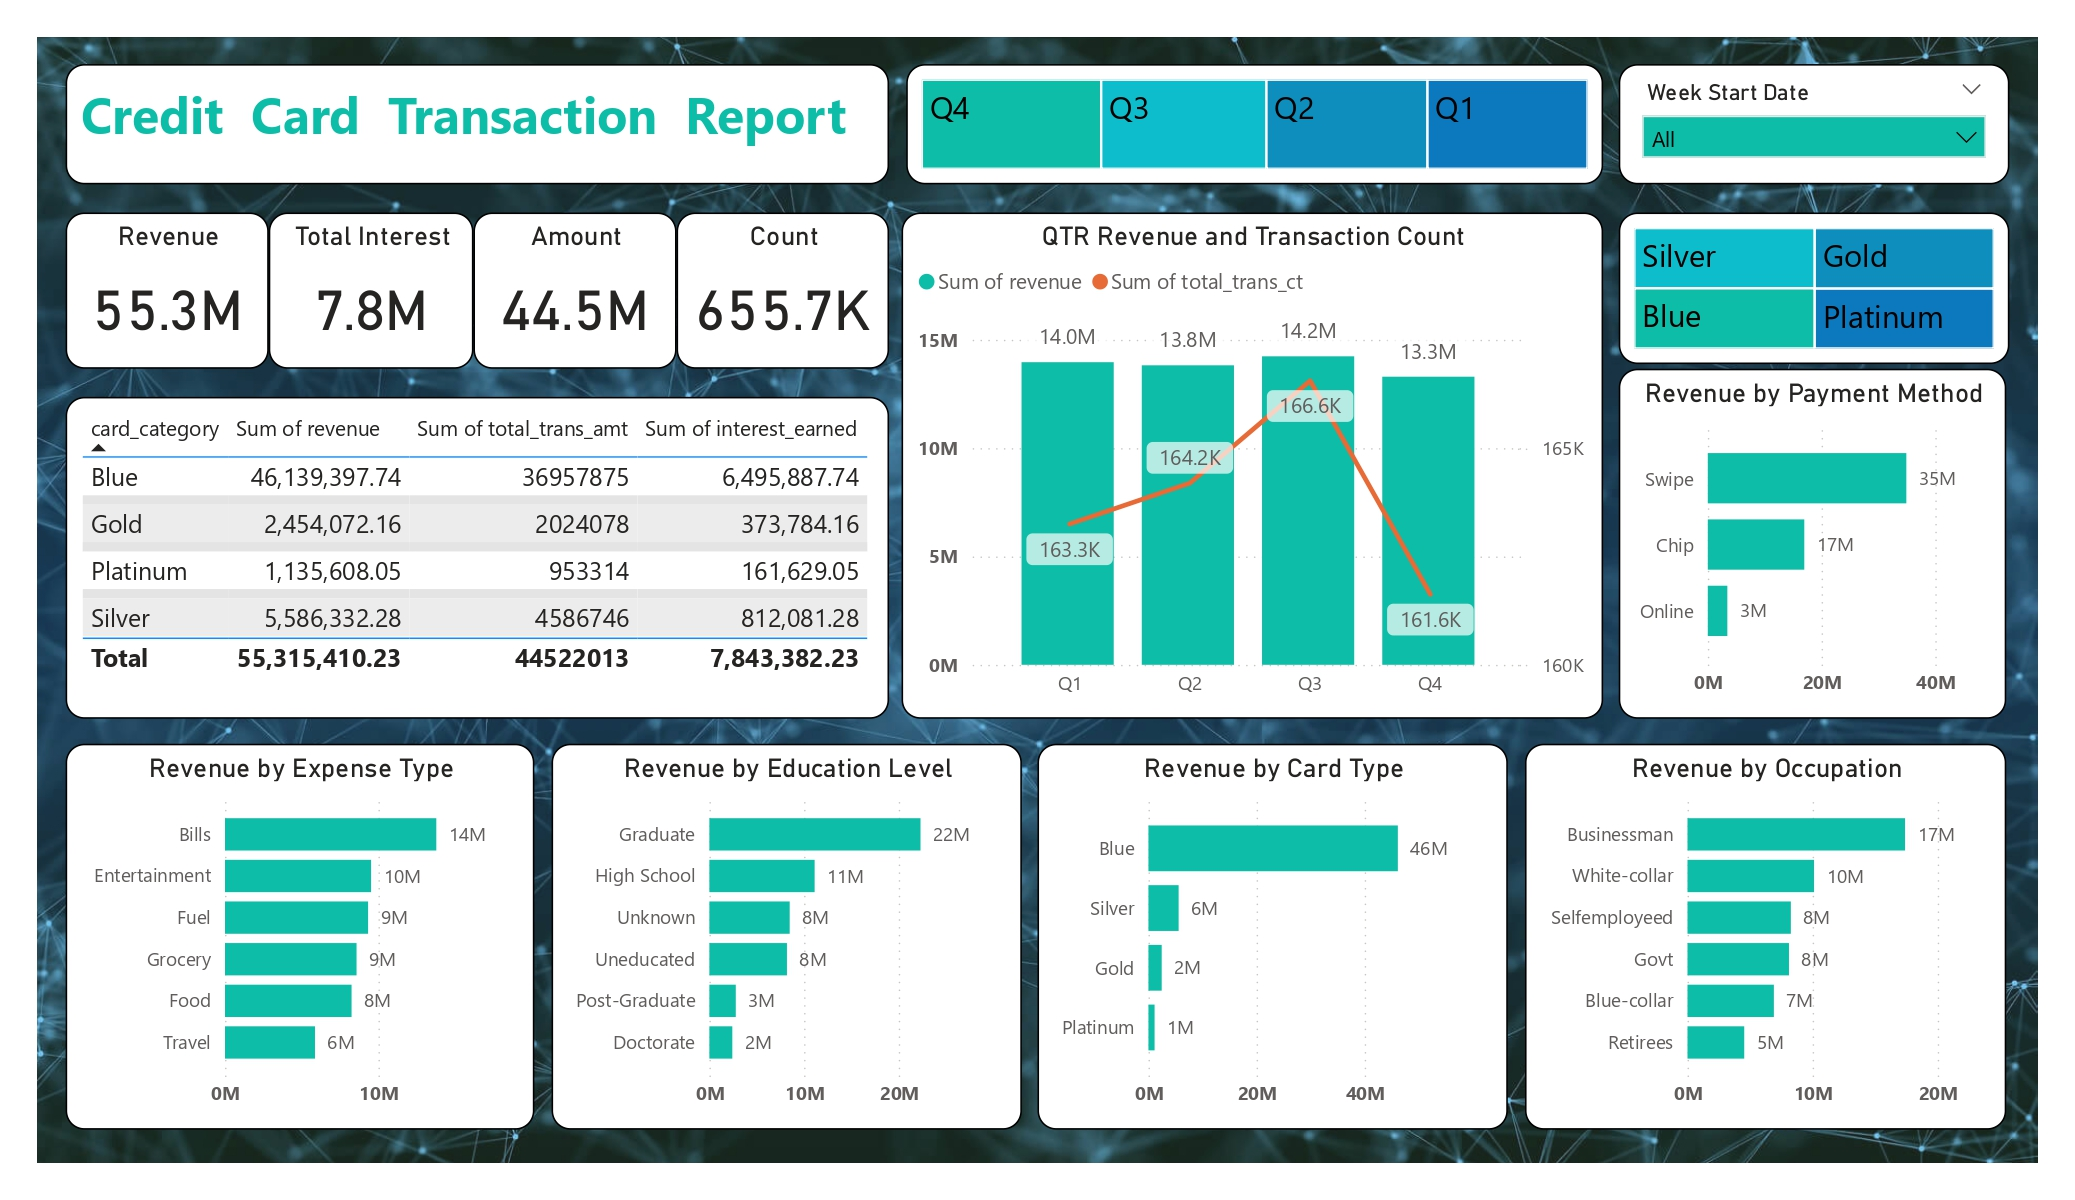

The dashboard page shown, as its layout file describes it:
{"tool":"powerbi","page":{"name":"cc_report","canvas":[1280,720],"ordinal":0},"visuals":[{"type":"textbox","box":[17.8,16.9,527.2,77.2],"z":0},{"type":"lineClusteredColumnComboChart","title":"QTR Revenue and Transaction Count","fields":{"Category":["public credit_card_transactions.qtr"],"Y":["Sum(public credit_card_transactions.revenue)"],"Y2":["Sum(public credit_card_transactions.total_trans_ct)"]},"box":[553.5,112.2,448.8,323.3],"z":1000},{"type":"barChart","title":"Revenue by Expense Type","fields":{"Y":["Sum(public credit_card_transactions.revenue)"],"Category":["public credit_card_transactions.exp_type"]},"box":[17.8,452.4,300,246.1],"z":2000},{"type":"barChart","title":"Revenue by Education Level","fields":{"Y":["Sum(public credit_card_transactions.revenue)"],"Category":["public customer_details.education_level"]},"box":[329.4,452.4,300.4,246.1],"z":3000},{"type":"barChart","title":"Revenue by Occupation","fields":{"Y":["Sum(public credit_card_transactions.revenue)"],"Category":["public customer_details.customer_job"]},"box":[951.6,452.4,308.8,246.1],"z":4000},{"type":"barChart","title":"Revenue by Card Type","fields":{"Y":["Sum(public credit_card_transactions.revenue)"],"Category":["public credit_card_transactions.card_category"]},"box":[640.3,452.4,300.4,246.1],"z":5000},{"type":"barChart","title":"Revenue by Payment Method","fields":{"Y":["Sum(public credit_card_transactions.revenue)"],"Category":["public credit_card_transactions.use_chip"]},"box":[1011.9,212.3,248.5,223.2],"z":6000},{"type":"tableEx","fields":{"Values":["public credit_card_transactions.card_category","Sum(public credit_card_transactions.revenue)","Sum(public credit_card_transactions.total_trans_amt)","Sum(public credit_card_transactions.interest_earned)"]},"box":[18.1,230.4,527.2,205.1],"z":7000},{"type":"card","title":"Revenue","fields":{"Values":["Sum(public credit_card_transactions.revenue)"]},"box":[18.1,112.2,130.3,100.1],"z":8000},{"type":"card","title":"Amount","fields":{"Values":["Sum(public credit_card_transactions.total_trans_amt)"]},"box":[278.7,112.2,130.3,100.1],"z":9000},{"type":"card","title":"Total Interest","fields":{"Values":["Sum(public credit_card_transactions.interest_earned)"]},"box":[148.4,112.2,130.3,100.1],"z":10000},{"type":"card","title":"Count ","fields":{"Values":["Sum(public credit_card_transactions.total_trans_ct)"]},"box":[409,112.2,136.3,100.1],"z":11000},{"type":"slicer","fields":{"Values":["public credit_card_transactions.week_start_date"]},"box":[1011.9,16.9,249.7,77.2],"z":12000},{"type":"treemap","fields":{"Group":["public credit_card_transactions.qtr"],"Values":["Avg(public customer_details.client_num)"]},"box":[555.9,16.9,446.4,77.2],"z":13000},{"type":"treemap","fields":{"Group":["public credit_card_transactions.card_category"],"Values":["Avg(public customer_details.client_num)"]},"box":[1012.2,112.2,249.7,96.5],"z":14000}]}

Visuals, with their boxes in screenshot pixels (x1, y1, x2, y2):
textbox: 65 64 889 185
"QTR Revenue and Transaction Count" lineClusteredColumnComboChart: 902 213 1604 718
"Revenue by Expense Type" barChart: 65 744 534 1129
"Revenue by Education Level" barChart: 552 744 1022 1129
"Revenue by Occupation" barChart: 1524 744 2007 1129
"Revenue by Card Type" barChart: 1038 744 1507 1129
"Revenue by Payment Method" barChart: 1619 369 2007 718
tableEx - public credit_card_transactions.card_category x Sum(public credit_card_transactions.revenue): 66 398 890 718
"Revenue" card: 66 213 269 369
"Amount" card: 473 213 677 369
"Total Interest" card: 269 213 473 369
"Count " card: 677 213 890 369
slicer - public credit_card_transactions.week_start_date: 1619 64 2009 185
treemap - public credit_card_transactions.qtr x Avg(public customer_details.client_num): 906 64 1604 185
treemap - public credit_card_transactions.card_category x Avg(public customer_details.client_num): 1619 213 2009 364
